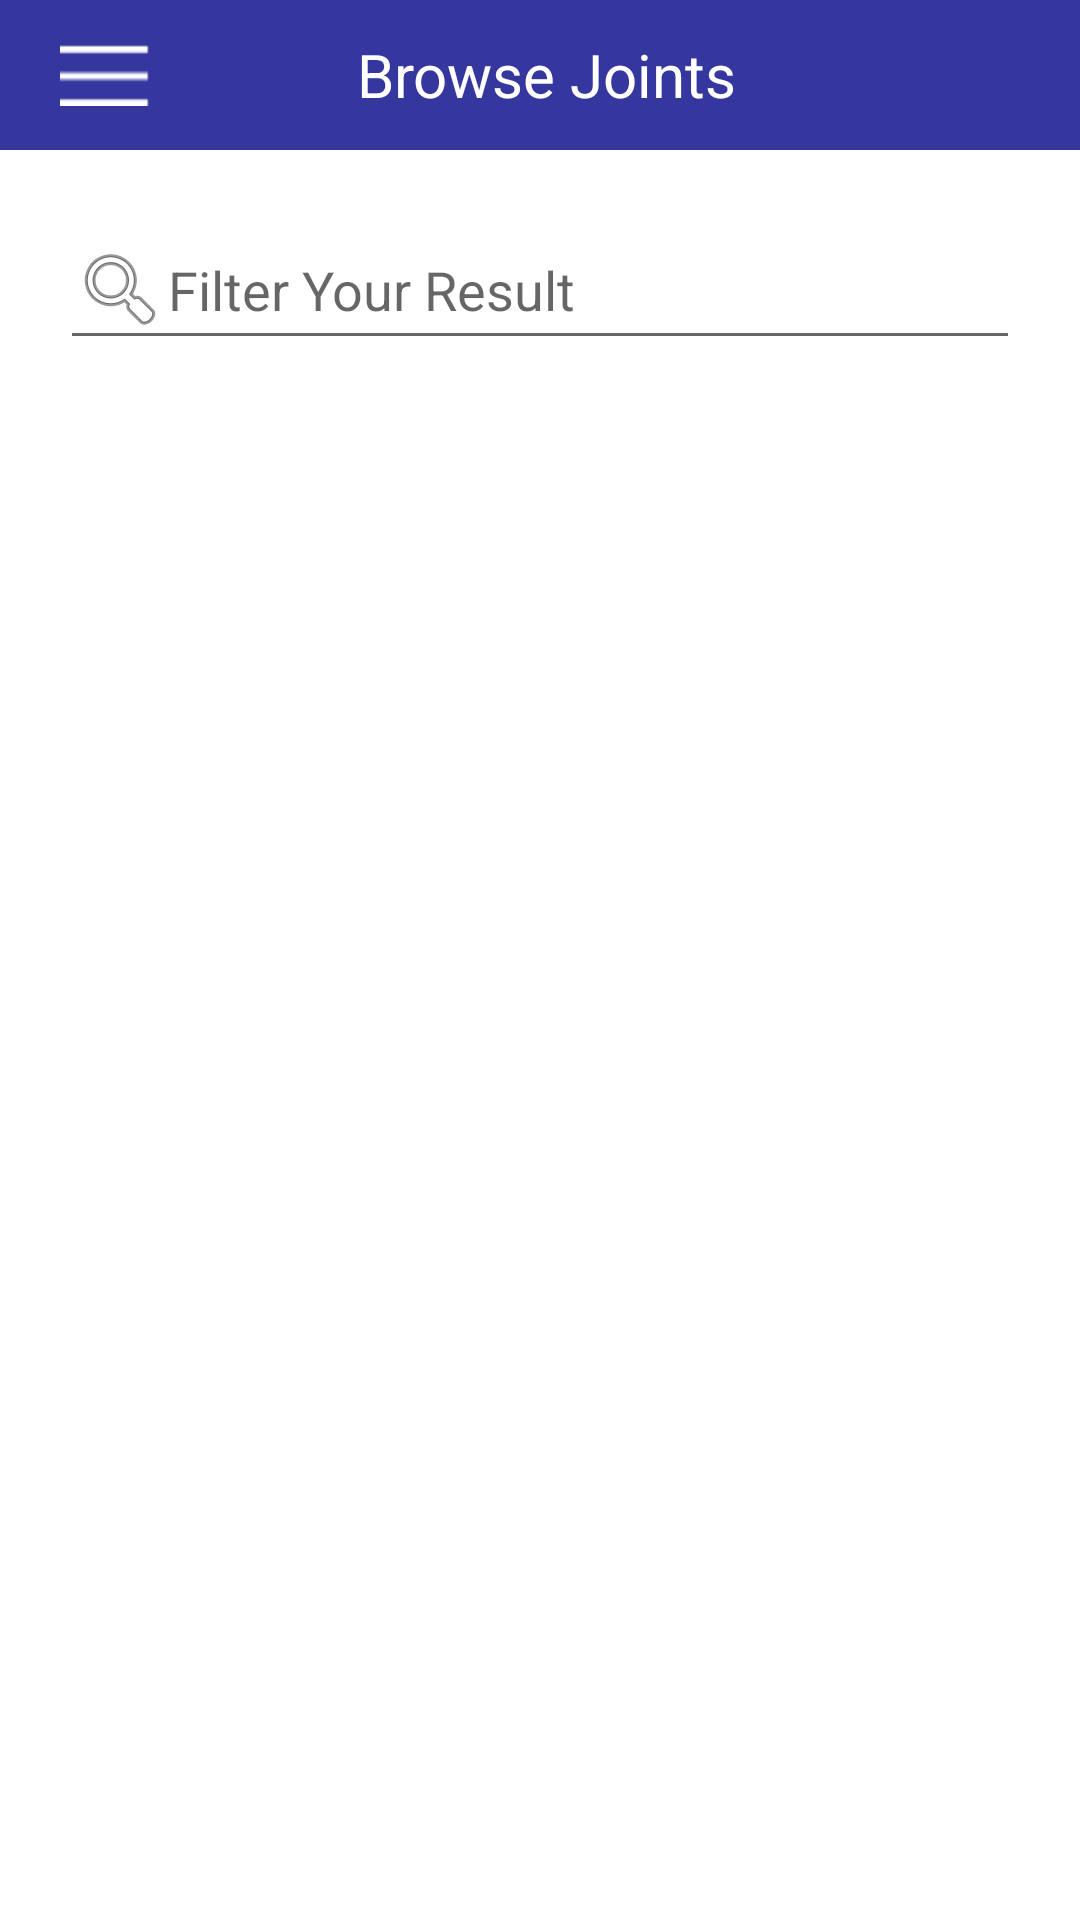

Icon click points for this 1080*1920 phone screenshot, format (x=x, y=y):
leftmenu open: (x=104, y=75)
